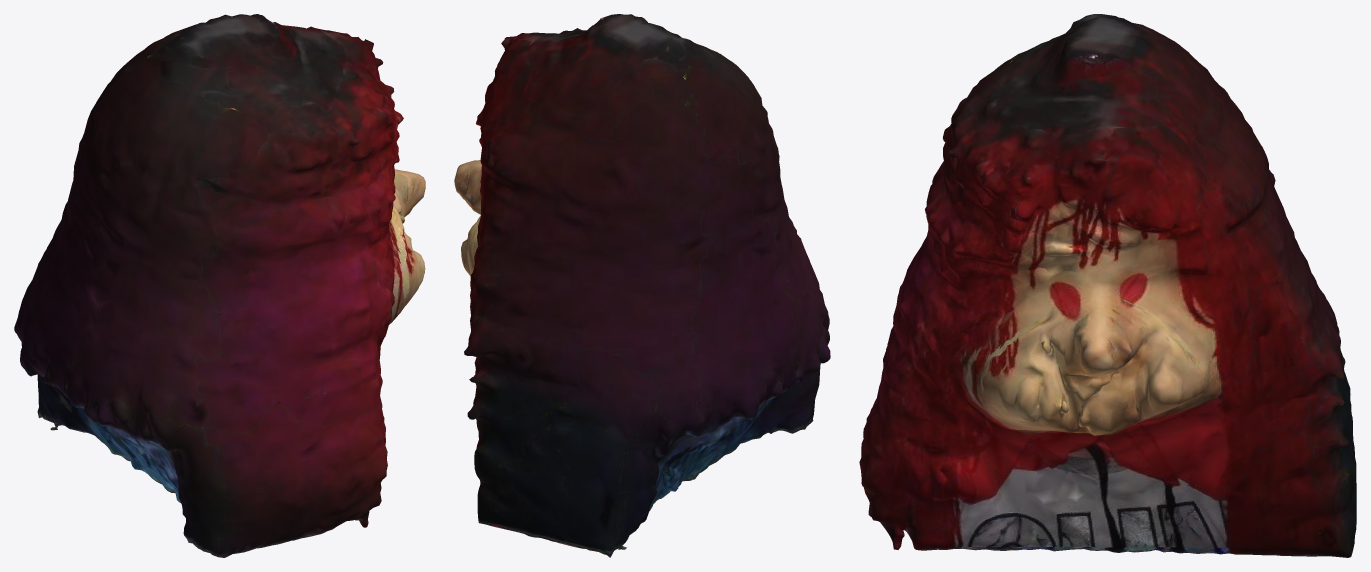
The model's file is fofao.glb.
3 views of the same model, side by side, from view 1: azimuth 30°, elevation 25°; view 2: azimuth 150°, elevation 25°; view 3: azimuth 270°, elevation 25° (orthographic). The views are drawn at different scales.
Parts seen in each view (by area): view 1: Mesh1; view 2: Mesh1; view 3: Mesh1.
Boxes of the visible parts, x1,y1,x2,y2 form: Mesh1: (14, 14, 425, 557); Mesh1: (454, 14, 830, 557); Mesh1: (859, 14, 1356, 557).
Size of the model in its own units: 0.9651 by 1.2 by 1.04.
1 material, 1 textured.
